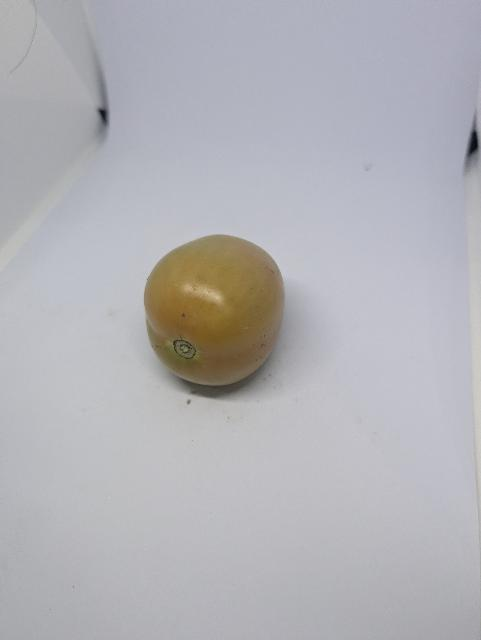breaker: (142, 233, 295, 395)
